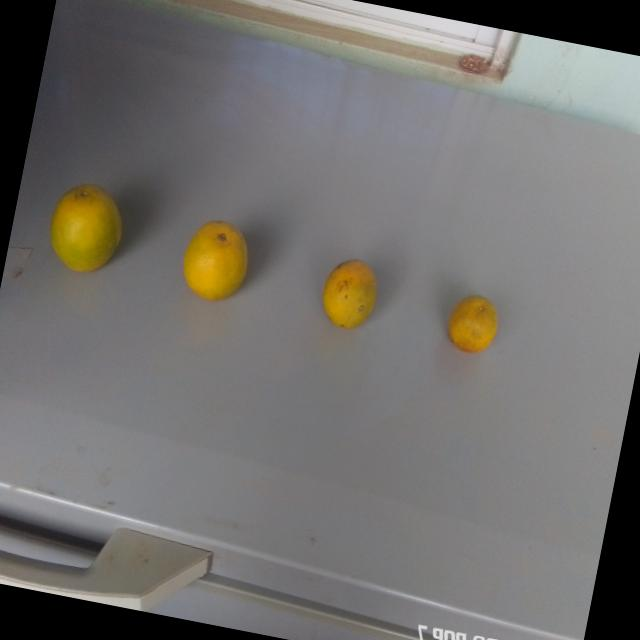Ripe orange: (40, 174, 130, 286), (174, 212, 260, 314), (316, 248, 386, 338), (443, 284, 502, 364)
